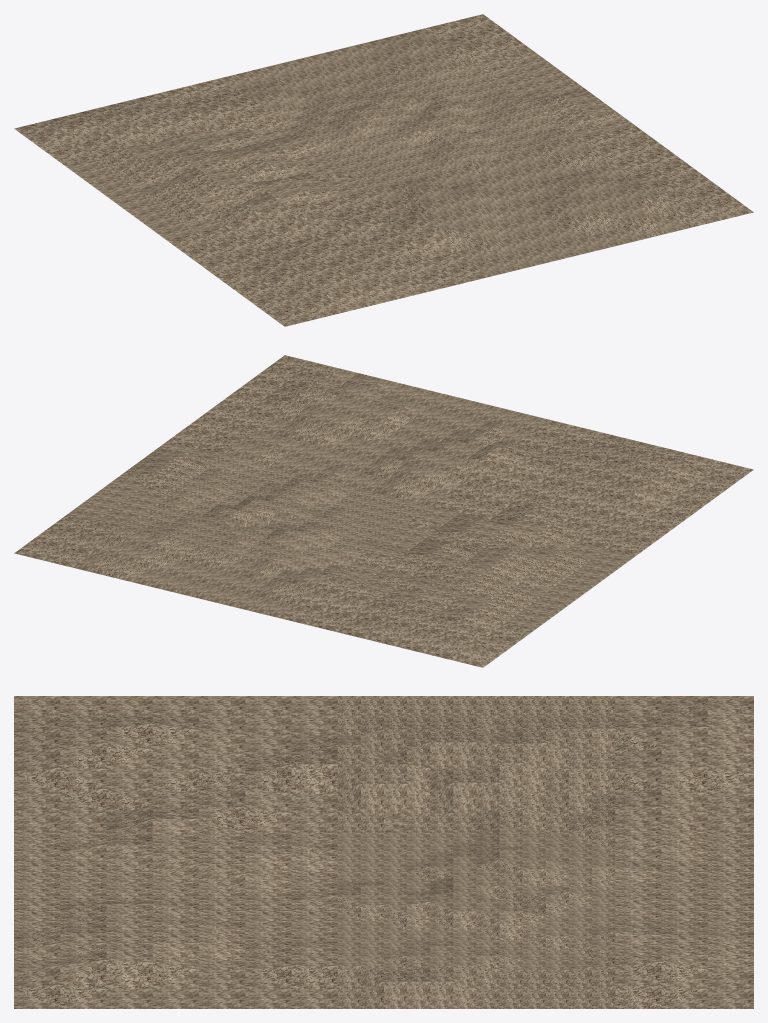
Rendered from terrain_level3.glb.
3 views of the same model, one above another, from view 1: azimuth 30°, elevation 25°; view 2: azimuth 150°, elevation 25°; view 3: azimuth 270°, elevation 25° (orthographic). The views are drawn at different scales.
Parts seen in each view (by area): view 1: Plane; view 2: Plane; view 3: Plane.
Boxes of the visible parts, x1,y1,x2,y2 form: Plane: (14,14,753,326); Plane: (14,355,753,667); Plane: (14,696,753,1008).
Size of what is drawn, in the model's own units: 32 by 0.663 by 32.
1 material, 1 textured.
